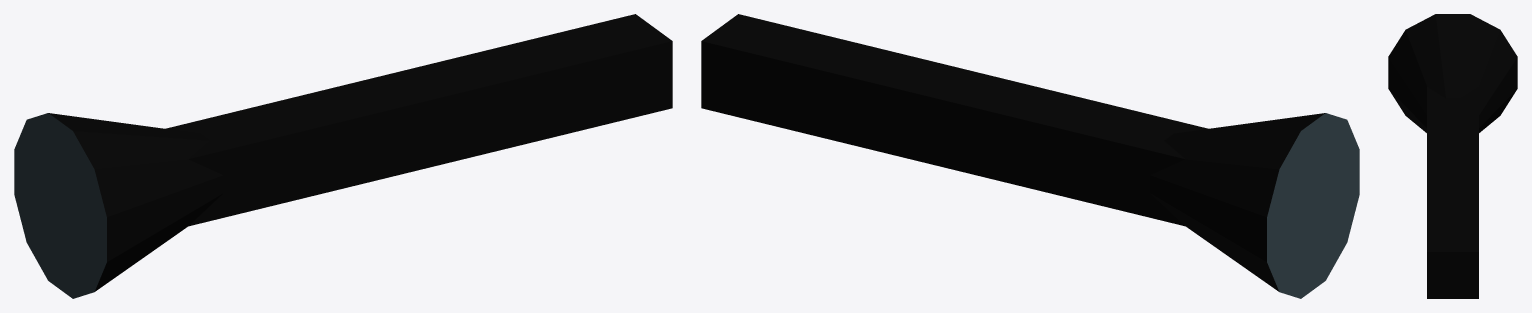
Rendered from flershlight.fbx.
3 renders of one model, left to right at view 1: azimuth 30°, elevation 25°; view 2: azimuth 150°, elevation 25°; view 3: azimuth 270°, elevation 25°, orthographic. The views are drawn at different scales.
Parts seen in each view (by area): view 1: cube, cone; view 2: cube, cone; view 3: cube, cone.
Boxes of the visible parts, bbox=[...] form: cube: bbox=[165, 14, 672, 226]; cone: bbox=[14, 113, 223, 298]; cube: bbox=[701, 14, 1208, 226]; cone: bbox=[1150, 113, 1359, 298]; cube: bbox=[1427, 86, 1478, 298]; cone: bbox=[1388, 14, 1517, 132].
Size of the model in its own units: 46.25 by 12.5 by 12.5.
2 materials, 2 textured.
